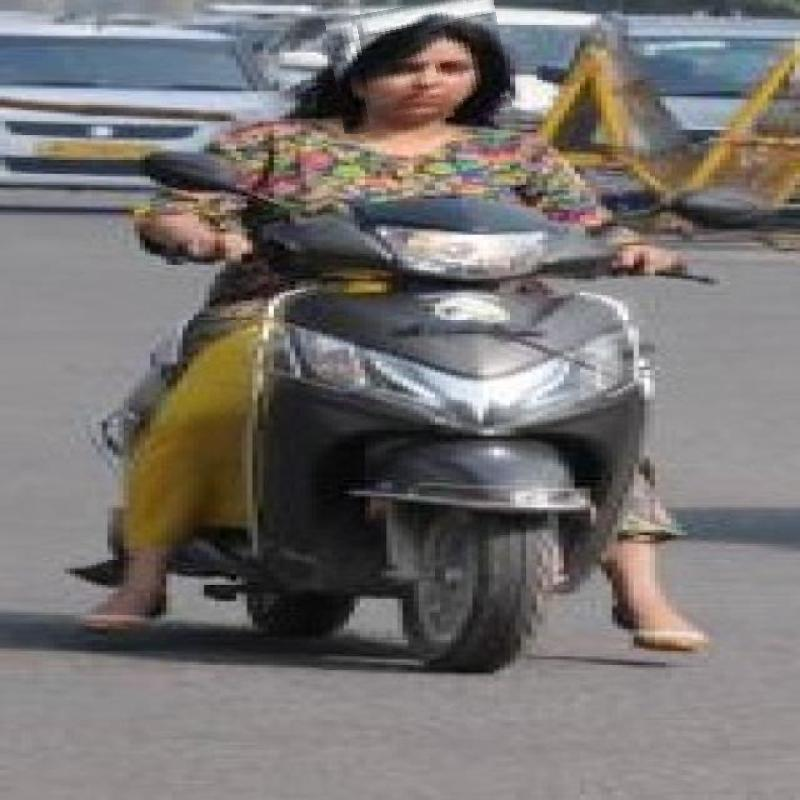nohelmet: (329, 0, 508, 127)
